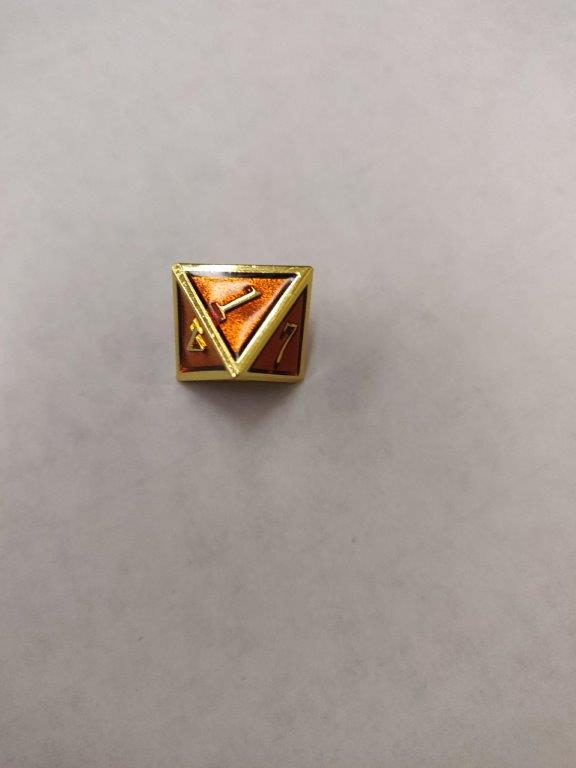d8-1: (171, 260, 315, 385)
